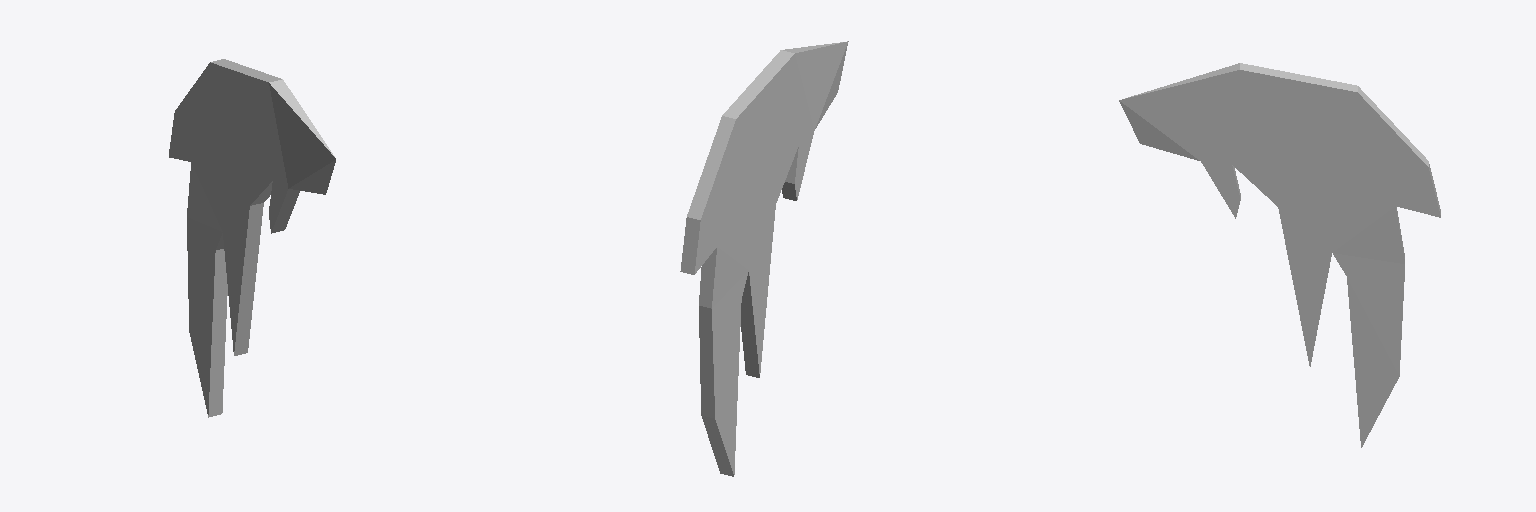
The model's file is cola_caballoTS.obj.
The picture shows the model from 3 angles: view 1: azimuth 30°, elevation 25°; view 2: azimuth 150°, elevation 25°; view 3: azimuth 270°, elevation 25°; orthographic projection.
Parts seen in each view (by area): view 1: cola_caballoTS; view 2: cola_caballoTS; view 3: cola_caballoTS.
Part boxes in pixels (left/top/right/bottom): cola_caballoTS: left=169, top=59, right=335, bottom=417; cola_caballoTS: left=680, top=41, right=848, bottom=476; cola_caballoTS: left=1119, top=63, right=1440, bottom=447.
Bounding box in the file's own units: 0.1476 × 3.81 × 2.93.